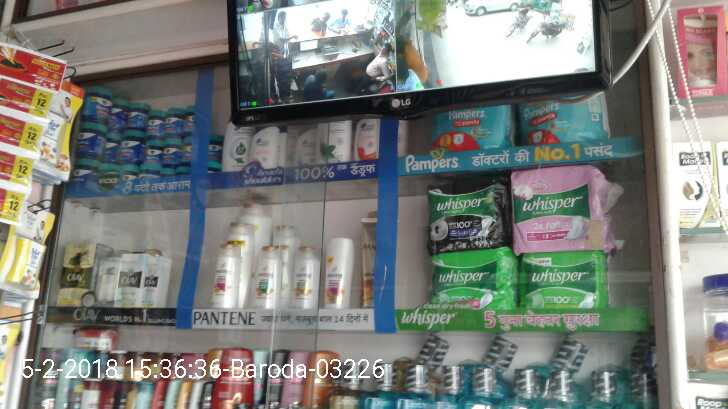beauty: (114, 251, 168, 303), (319, 242, 360, 308), (58, 243, 100, 306), (207, 244, 238, 313), (292, 243, 319, 310), (253, 243, 277, 307)
pharmacy: (511, 172, 610, 248), (424, 184, 504, 252), (519, 250, 609, 309), (428, 246, 510, 300), (72, 119, 100, 157), (86, 86, 111, 126), (124, 100, 148, 127), (118, 134, 141, 160), (161, 137, 184, 163), (145, 108, 161, 135), (164, 104, 182, 128), (144, 136, 159, 161)
